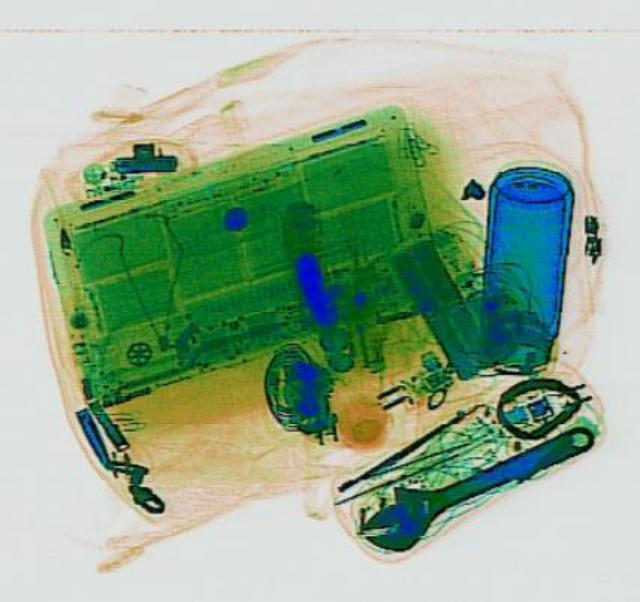Wrench: (344, 399, 604, 558)
